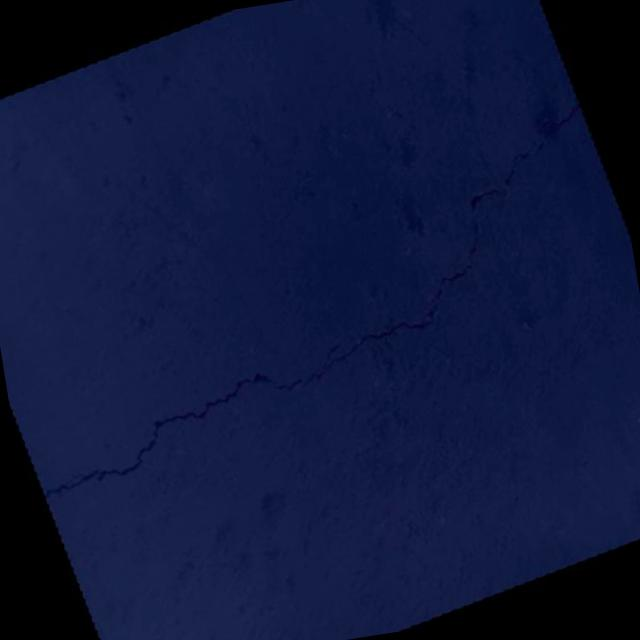crack: (0, 98, 640, 509)
